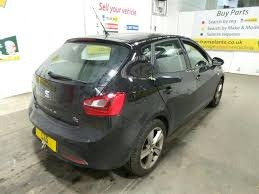Dent: (122, 59, 158, 83)
